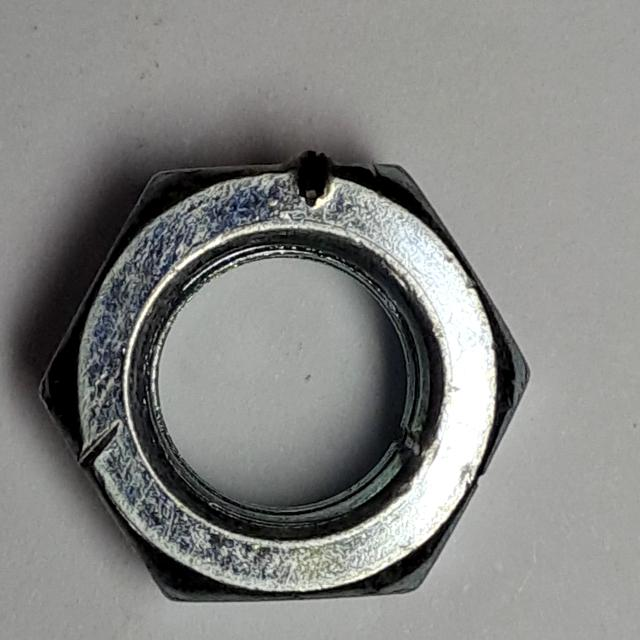Scratches: (30, 134, 549, 620)
